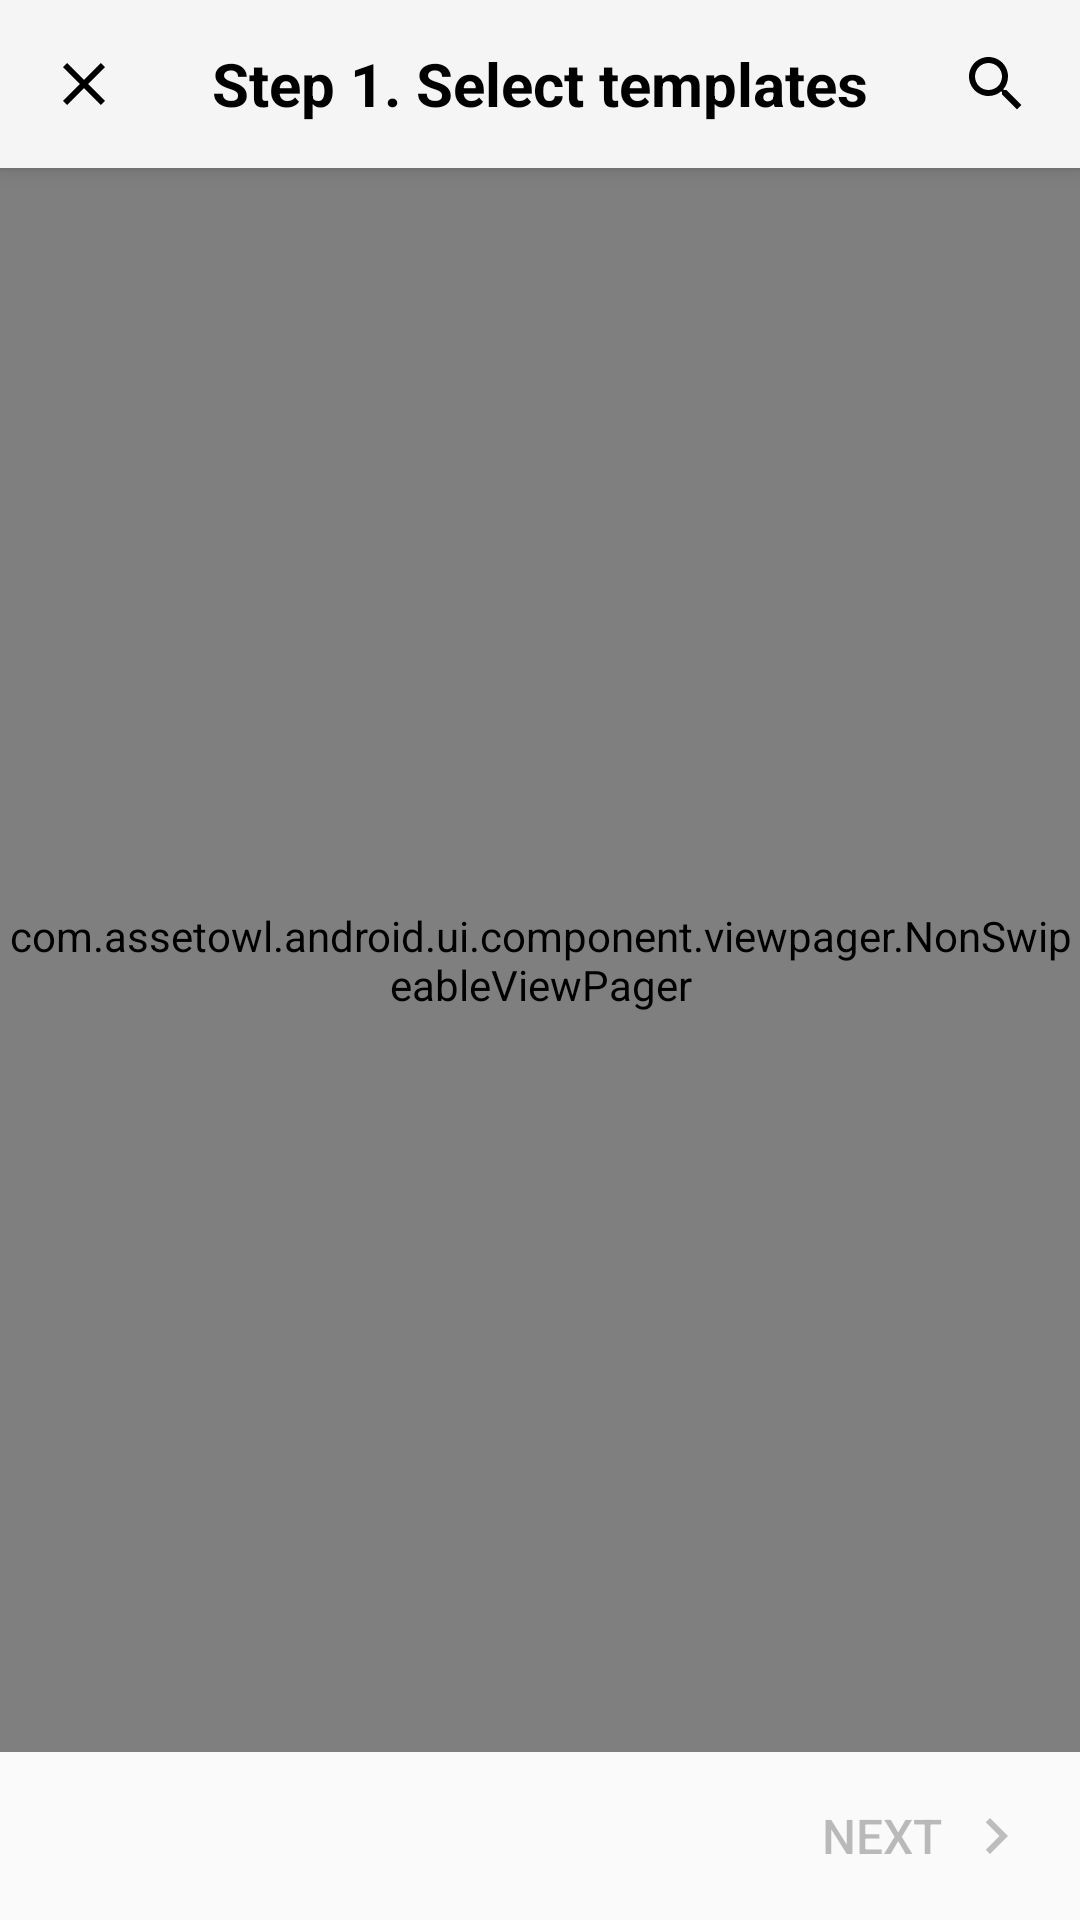

Named icons in this screenshot (1080px×1920px) and their centers, [x,y]:
droid close: [84,84]
droid search: [995,83]
